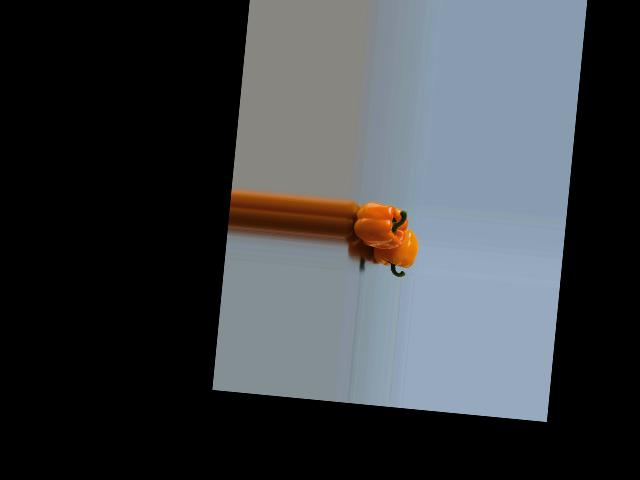bell_pepper: (363, 224, 420, 277)
